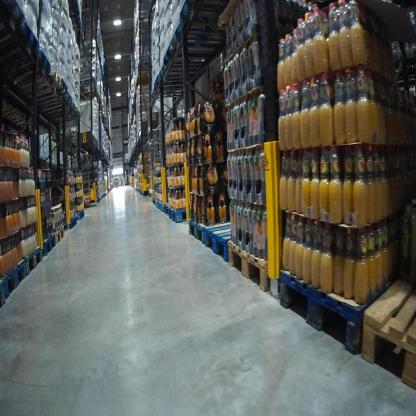pallet: (278, 252, 407, 352), (362, 266, 415, 394), (228, 225, 296, 299), (5, 71, 64, 120), (205, 216, 264, 264), (3, 46, 54, 98), (170, 17, 237, 51), (2, 18, 44, 66), (6, 79, 69, 110), (159, 53, 219, 81), (180, 1, 235, 27), (17, 92, 75, 115), (162, 41, 212, 67), (30, 110, 81, 133), (2, 261, 29, 299), (149, 81, 200, 100), (153, 71, 199, 91), (169, 202, 201, 226), (1, 1, 25, 33), (21, 248, 44, 278), (187, 210, 206, 245), (27, 104, 78, 114), (41, 230, 58, 257), (65, 15, 89, 32), (55, 224, 67, 248), (1, 274, 8, 311), (65, 214, 79, 232), (77, 86, 98, 96), (164, 204, 172, 220), (75, 209, 84, 223), (157, 200, 166, 212)
